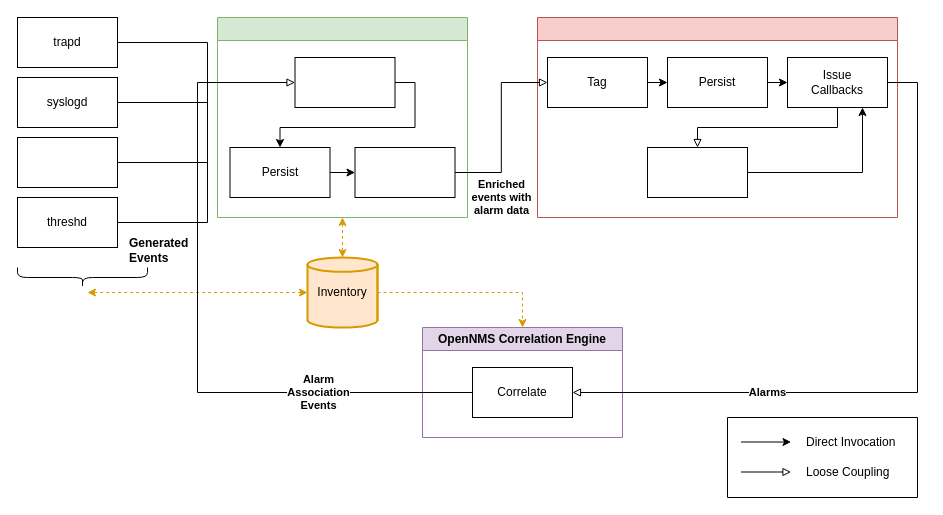
The diagram is 943 pixels wide and 515 high, and some of its shapes have lost their labels. The shapes that lost their labels are listed below. From the top down, each one's box as (x1, y1, x2, y2) in pixels, then its label:
(294, 56, 395, 108): Expand
(216, 16, 468, 218): eventd
(536, 16, 898, 218): alarmd
(16, 136, 118, 188): pollerd
(354, 146, 455, 198): Broadcast
(646, 146, 748, 198): Business Logic (Drools)
